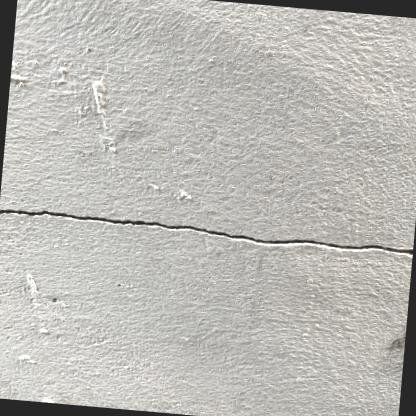crack: (5, 206, 413, 259)
